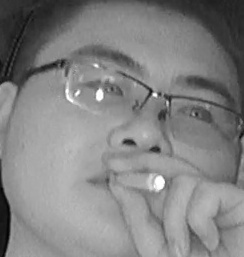eye: (179, 101, 213, 123)
glass: (66, 60, 151, 122), (167, 95, 244, 148)
